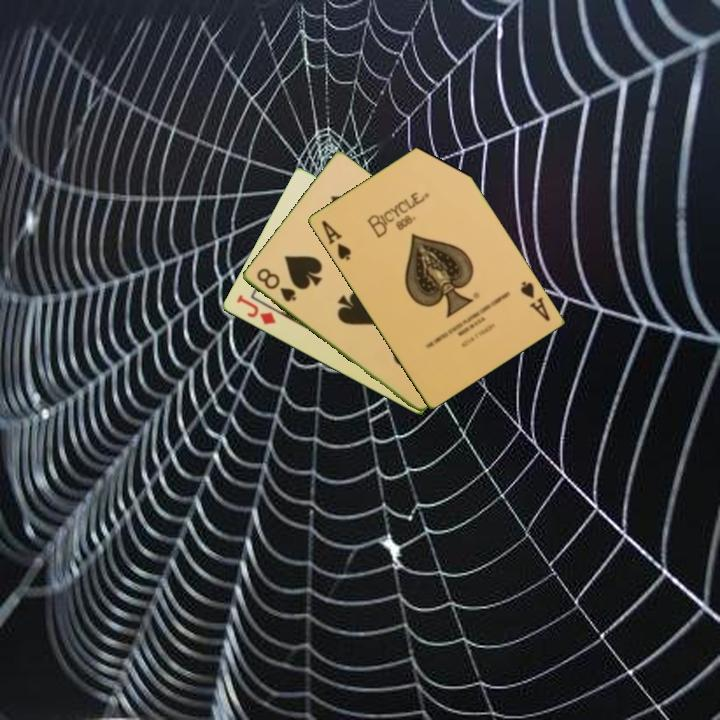8s: (253, 264, 299, 305)
As: (317, 216, 354, 264), (516, 278, 553, 324)
Jd: (233, 291, 279, 328)
